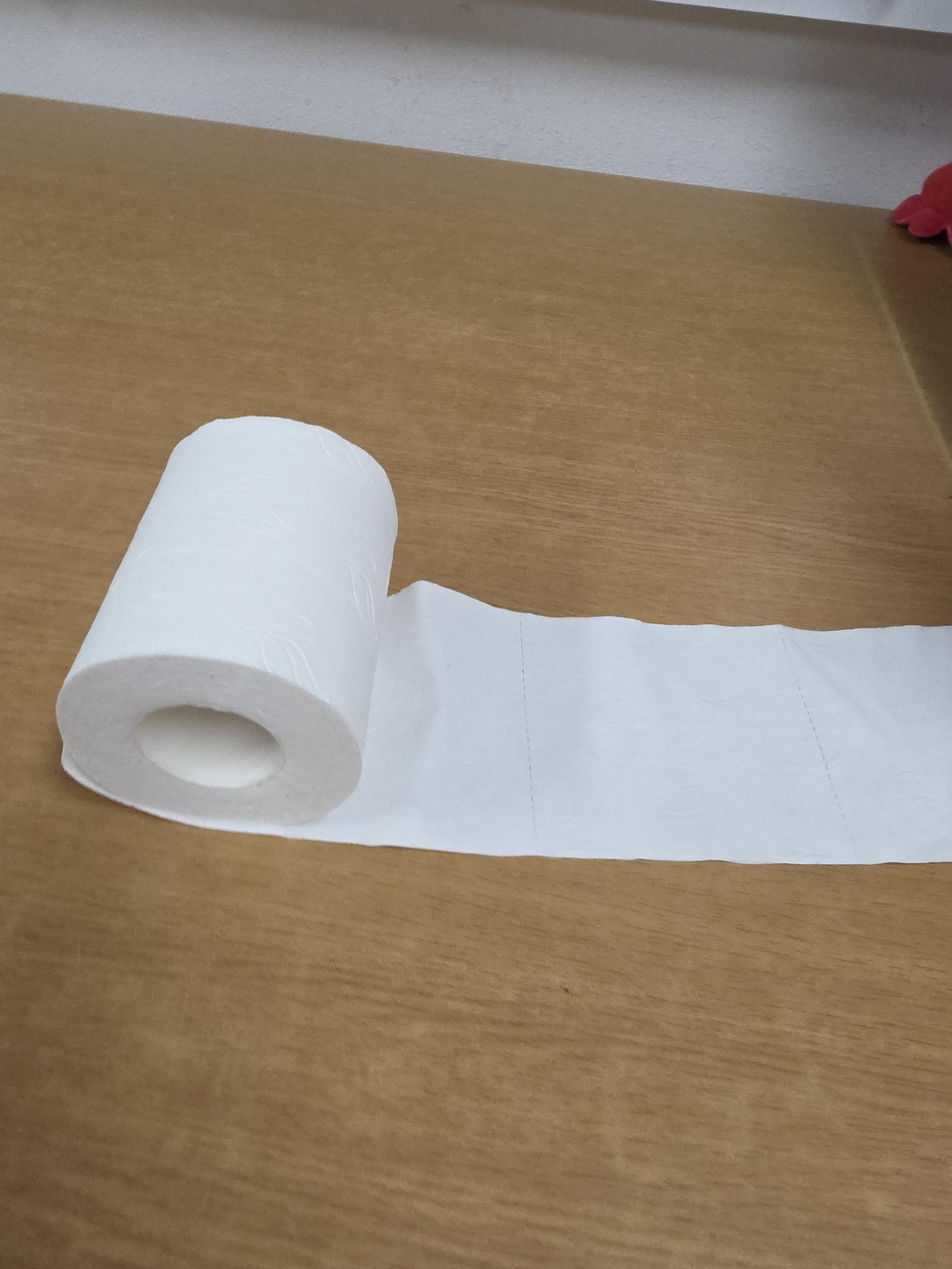tissue: (56, 415, 951, 865)
